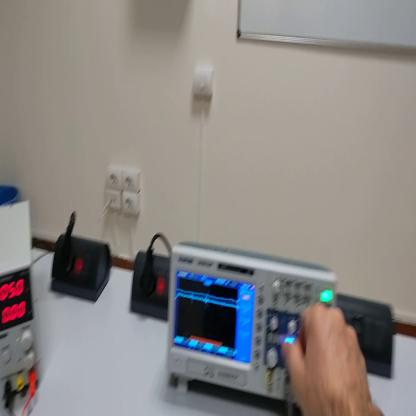hand: (285, 300, 374, 415)
oscilloscope: (172, 236, 343, 415)
power supply: (1, 197, 40, 400)
socket: (51, 234, 114, 303), (133, 250, 170, 324)
